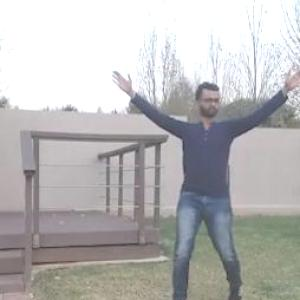takeoff: (99, 58, 300, 299)
